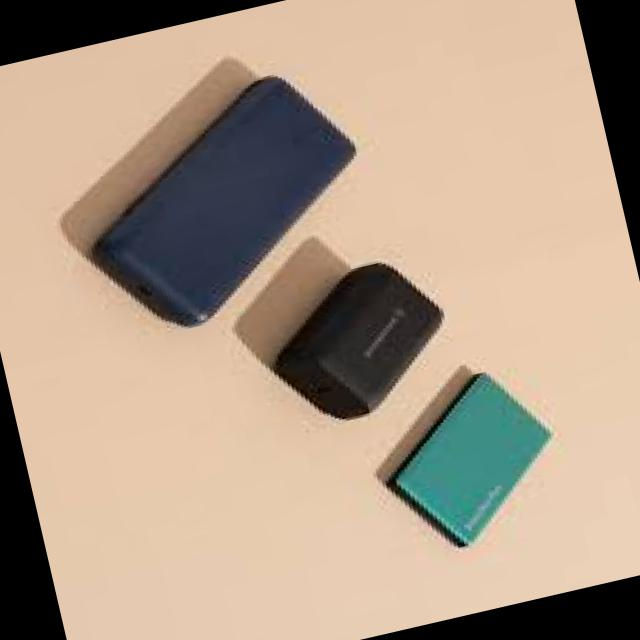portable-charger: (41, 47, 391, 347), (362, 361, 572, 570), (245, 258, 462, 442)
